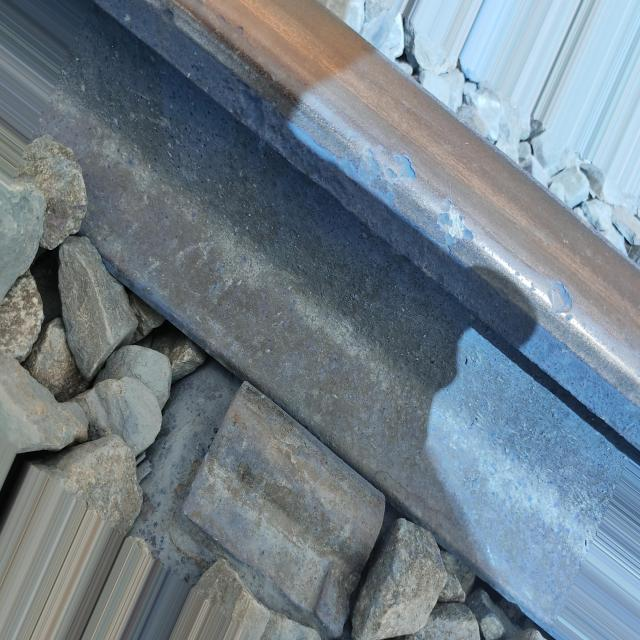Missing Fastener: (174, 378, 385, 630)
